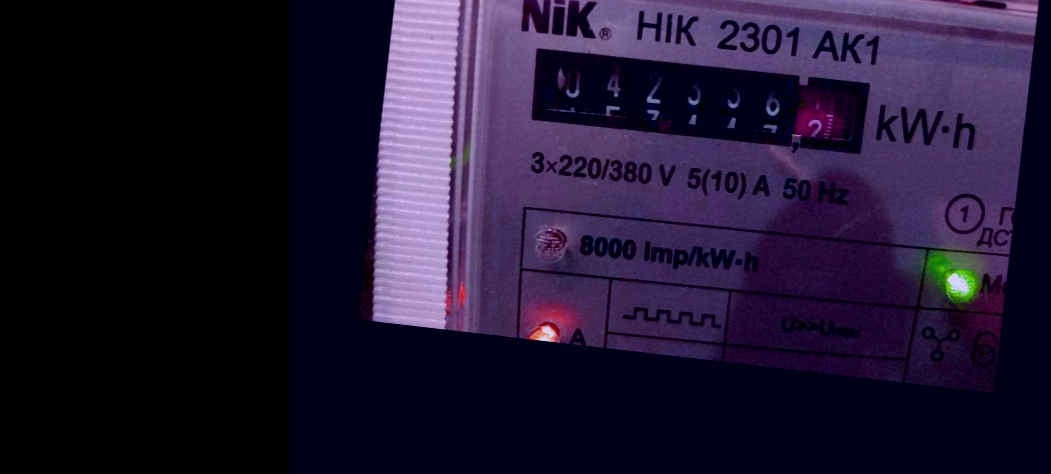0: (562, 61, 586, 99)
1: (811, 81, 827, 111)
2: (643, 67, 667, 105), (805, 114, 826, 137)
3: (722, 72, 746, 110), (684, 68, 707, 107)
4: (604, 59, 627, 98)
6: (761, 79, 787, 117)
screen: (521, 32, 881, 165)
